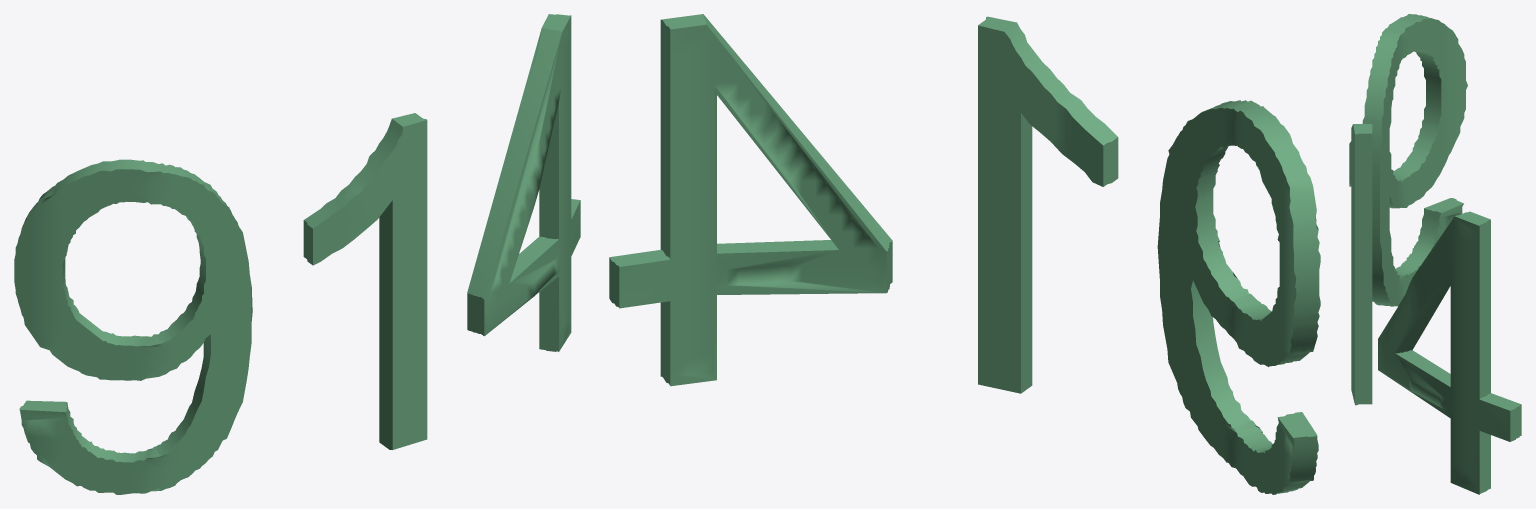
Rendered from port_14.obj.
The picture shows the model from 3 angles, left to right: view 1: azimuth 30°, elevation 25°; view 2: azimuth 150°, elevation 25°; view 3: azimuth 270°, elevation 25°; orthographic projection. The views are drawn at different scales.
Parts seen in each view (by area): view 1: Text01; view 2: Text01; view 3: Text01.
Boxes of the visible parts, bbox=[...] form: Text01: bbox=[14, 14, 580, 494]; Text01: bbox=[609, 14, 1320, 494]; Text01: bbox=[1349, 14, 1521, 494].
Size of the model in its own units: 3.06 by 1.59 by 0.9.
